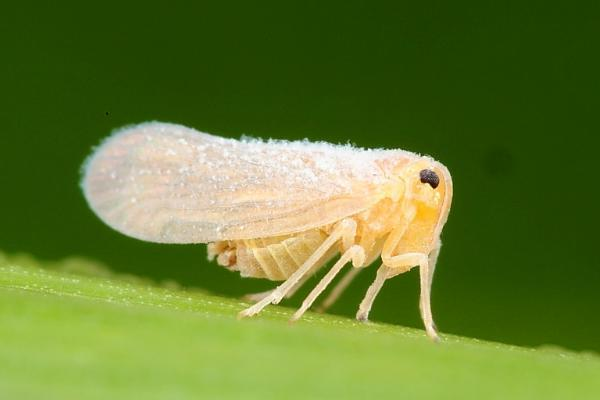Delphacidae: (78, 118, 454, 341)
